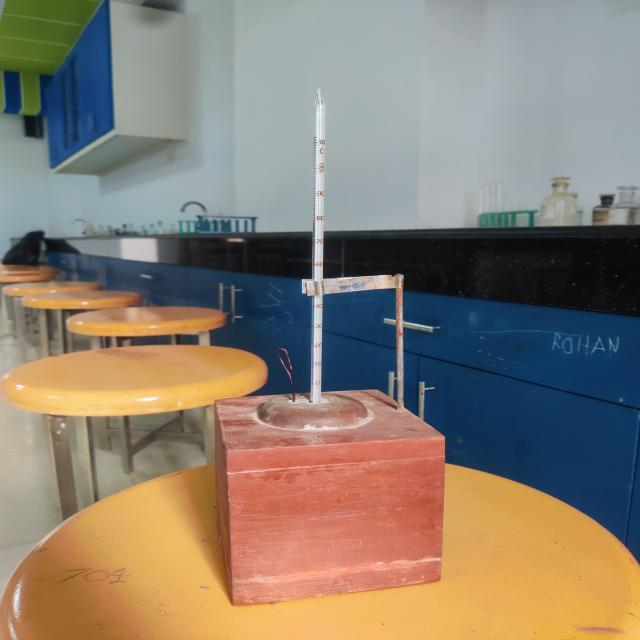Calorimeter: (170, 78, 478, 618)
